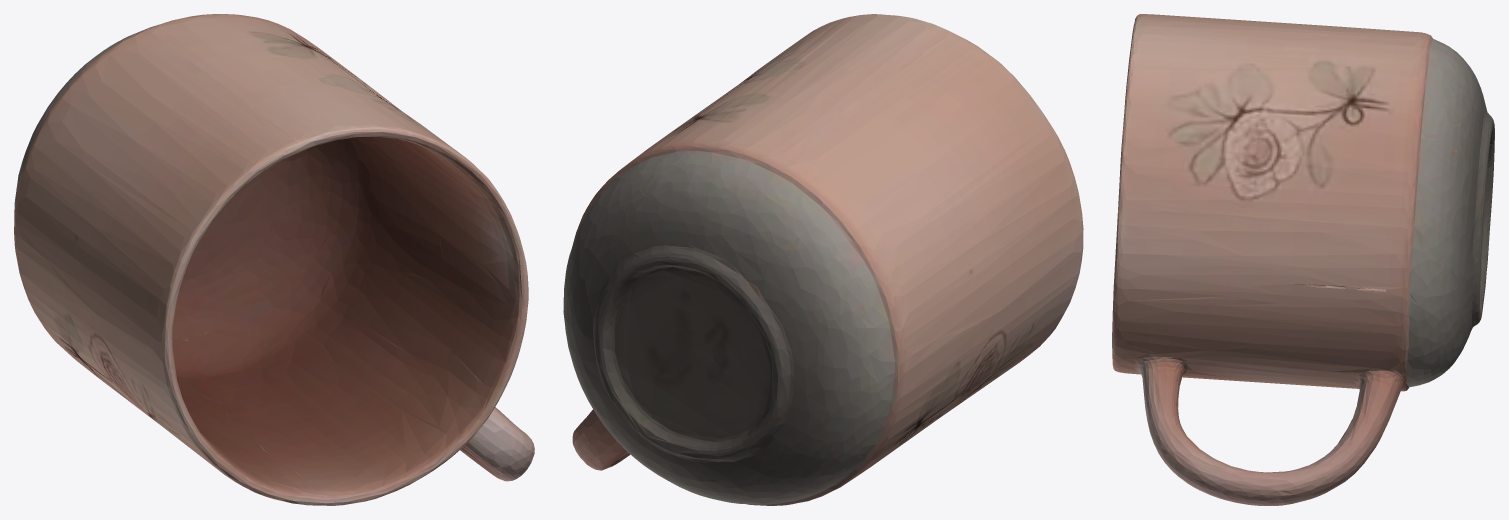
The picture shows the model from 3 angles, left to right: view 1: azimuth 30°, elevation 25°; view 2: azimuth 150°, elevation 25°; view 3: azimuth 270°, elevation 25°; orthographic projection. The views are drawn at different scales.
Parts seen in each view (by area): view 1: geometry_0; view 2: geometry_0; view 3: geometry_0.
Boxes of the visible parts, left/top/right/bottom form: geometry_0: left=14, top=14, right=534, bottom=505; geometry_0: left=563, top=14, right=1083, bottom=505; geometry_0: left=1112, top=14, right=1494, bottom=505.
Bounding box in the file's own units: 0.0876 × 0.0882 × 0.0807.
Materials: 1 (1 with a texture image).
